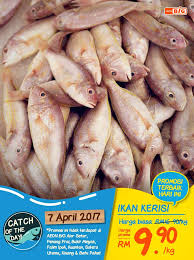Ikan Kerisi: (28, 79, 68, 197), (113, 77, 165, 158), (71, 90, 114, 184), (43, 45, 99, 112), (50, 5, 141, 33)
